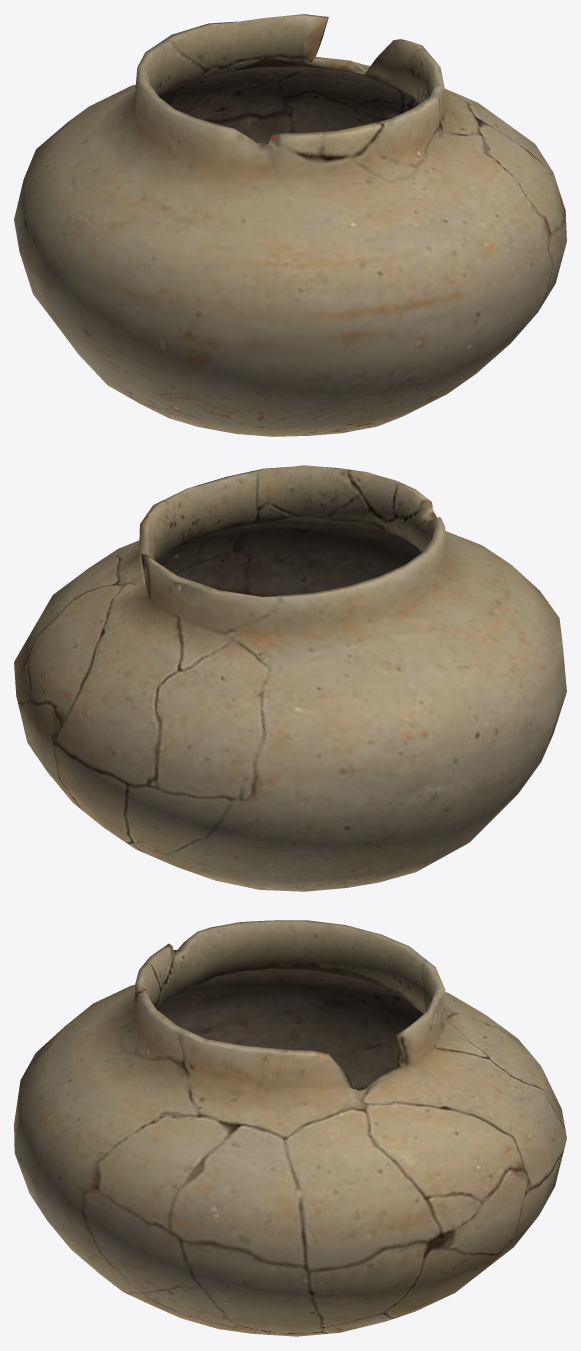
File: antiquity4_43.fbx
3 views of the same model, one above another, from view 1: azimuth 30°, elevation 25°; view 2: azimuth 150°, elevation 25°; view 3: azimuth 270°, elevation 25° (orthographic).
Parts seen in each view (by area): view 1: Box001; view 2: Box001; view 3: Box001.
Boxes of the visible parts, x1,y1,x2,y2 form: Box001: (14, 14, 566, 436); Box001: (14, 465, 566, 891); Box001: (14, 920, 566, 1336).
Size of the model in its own units: 38.8 by 23.51 by 39.29.
Materials: 1 (1 with a texture image).
